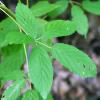Raspberry leaf: (51, 42, 98, 79), (28, 46, 54, 99), (15, 0, 38, 40), (42, 19, 80, 39), (0, 31, 33, 49)
